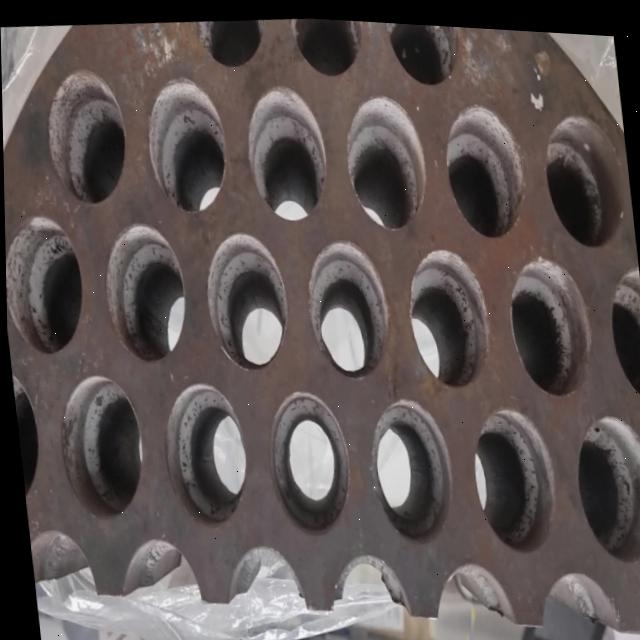Hole: (464, 395, 562, 554), (51, 368, 147, 523), (262, 382, 355, 538), (299, 231, 395, 382), (157, 376, 251, 530), (363, 390, 457, 544), (97, 216, 192, 367), (199, 224, 293, 375), (401, 238, 495, 388), (503, 245, 595, 397), (40, 64, 133, 210), (339, 85, 431, 231), (439, 92, 530, 239), (141, 70, 232, 217), (241, 78, 332, 222), (539, 104, 628, 248), (4, 211, 87, 360), (568, 403, 640, 560), (384, 18, 465, 87), (603, 257, 640, 401), (9, 365, 45, 510), (288, 13, 366, 79), (193, 12, 270, 71)
